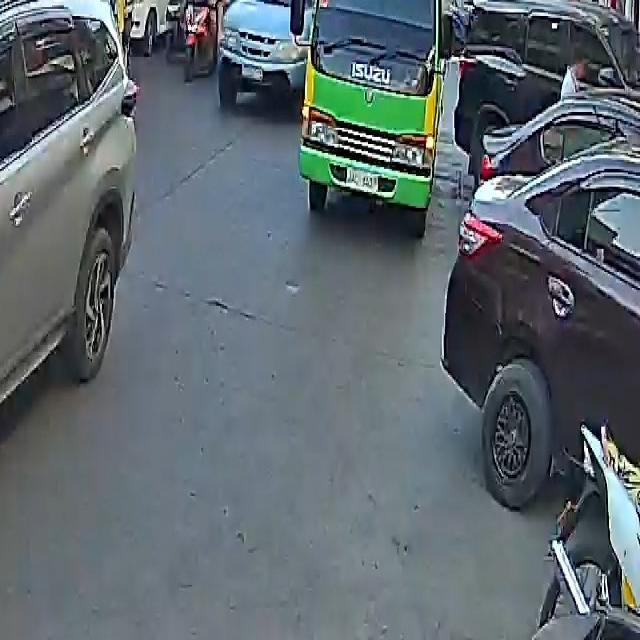car: (0, 0, 151, 629), (444, 154, 640, 511), (452, 0, 640, 180), (214, 0, 329, 112)
